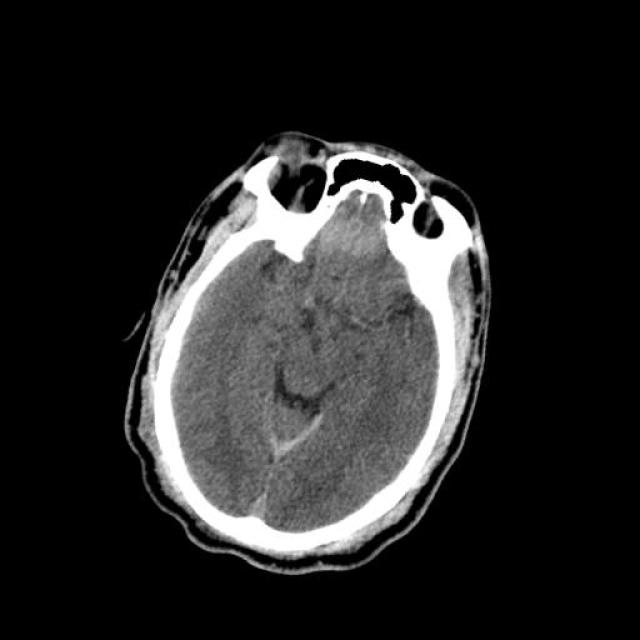Subdural: (216, 390, 350, 554)
